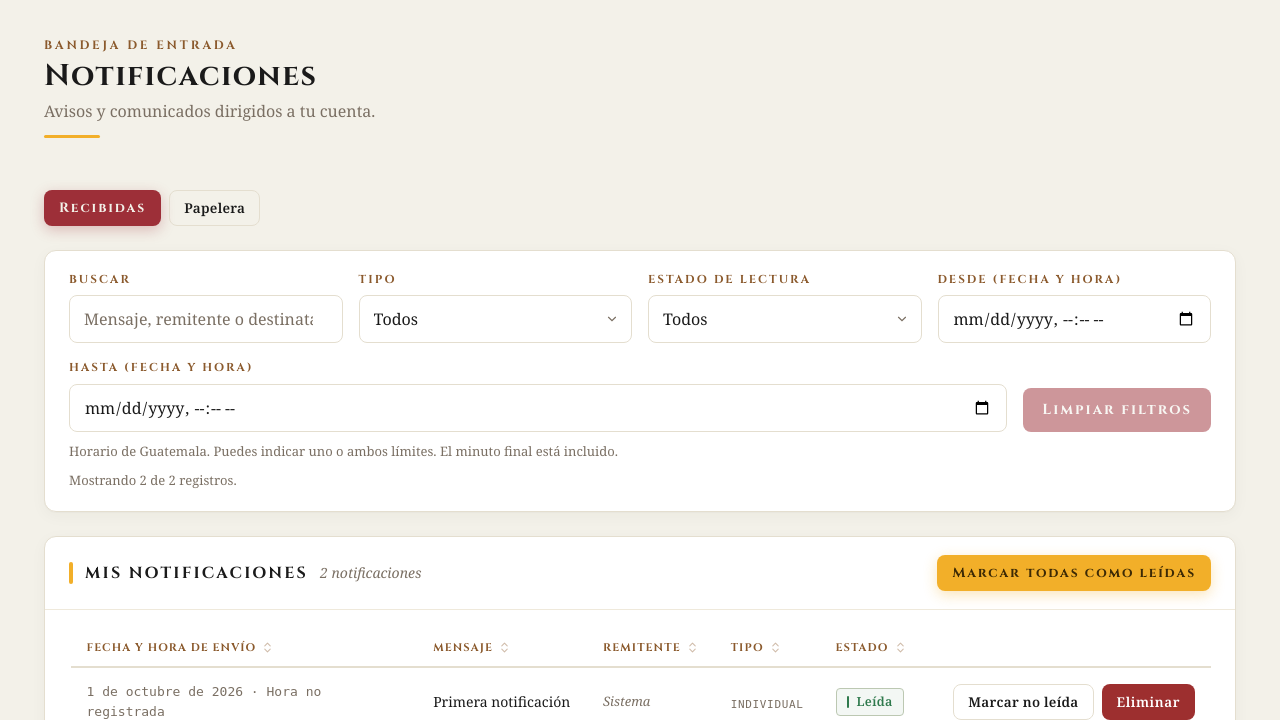
Test: Pestaña Papelera › muestra las notificaciones eliminadas y permite restaurarlas
Click the button "Papelera" at {"x": 215, "y": 208}, box top-left (169, 190), bottom-right (260, 226)
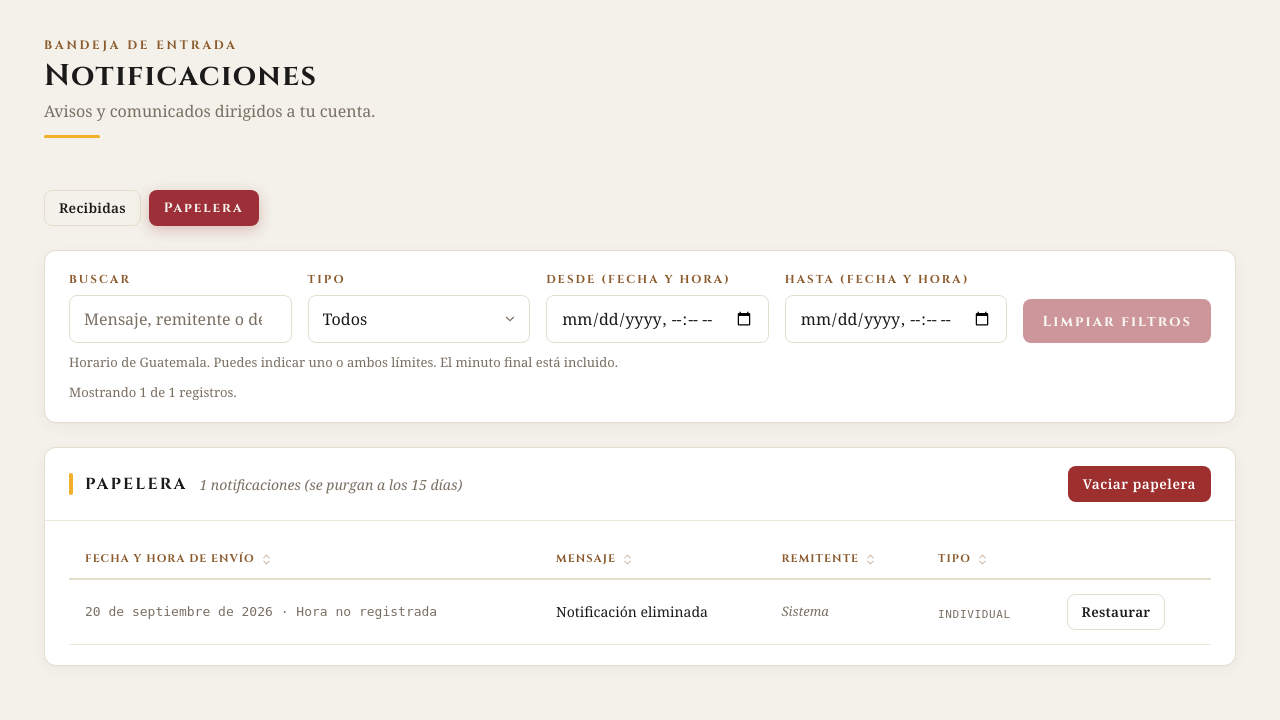
Now the text "Notificación eliminada" is shown, box top-left (540, 579), bottom-right (765, 644)
Click the button "Restaurar" at {"x": 1116, "y": 612}, box top-left (1067, 594), bottom-right (1165, 630)
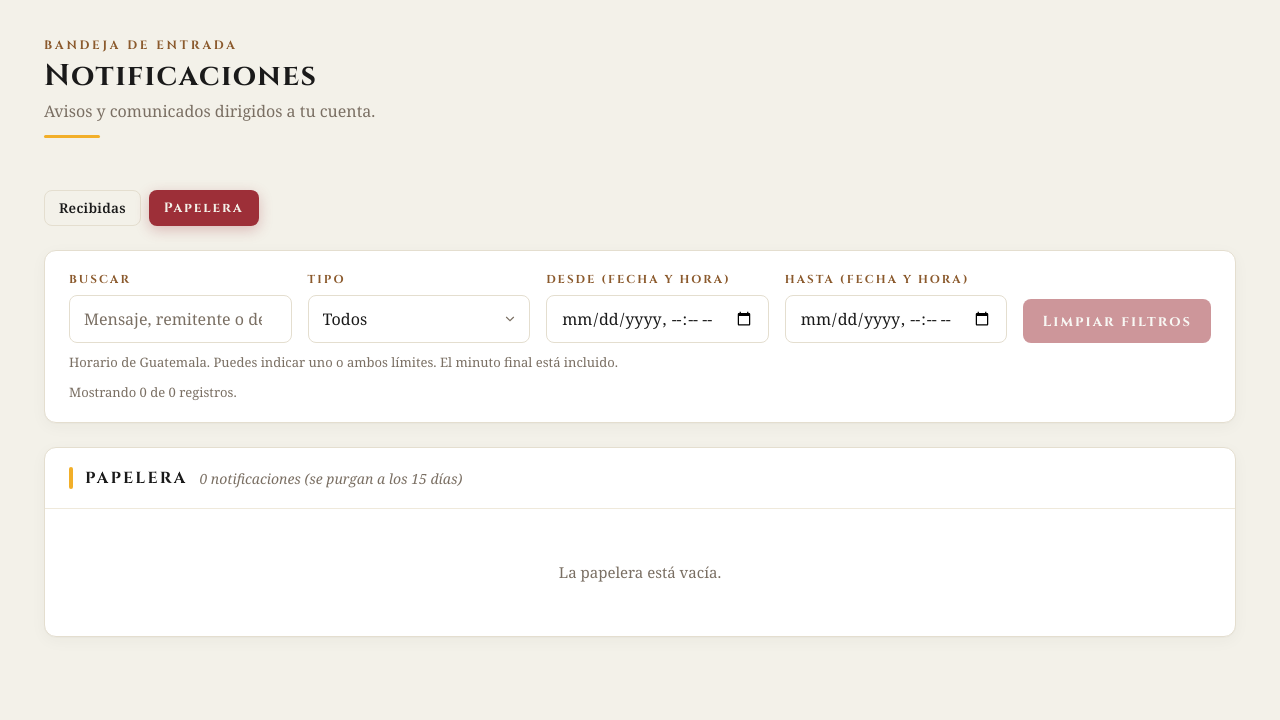
Now the text "Notificación eliminada" is gone
